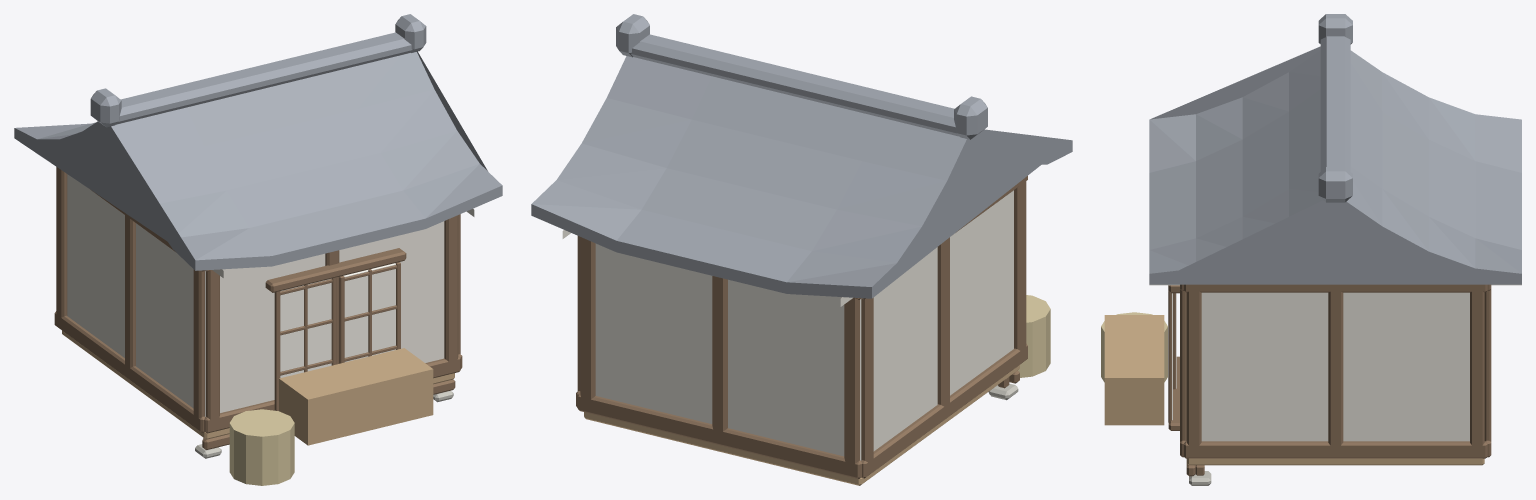
File: rice-dealer.glb
3 renders of one model, left to right at view 1: azimuth 30°, elevation 25°; view 2: azimuth 150°, elevation 25°; view 3: azimuth 270°, elevation 25°, orthographic. The views are drawn at different scales.
Parts seen in each view (by area): view 1: rice-dealer; view 2: rice-dealer; view 3: rice-dealer.
Part boxes in pixels (left/top/right/bottom): rice-dealer: left=14, top=14, right=502, bottom=485; rice-dealer: left=531, top=14, right=1072, bottom=485; rice-dealer: left=1101, top=14, right=1521, bottom=485.
Bounding box in the file's own units: 5.2 × 4.91 × 5.65.
